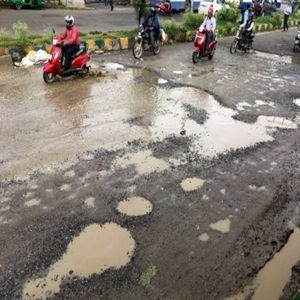pothole: (22, 219, 139, 298), (116, 194, 158, 218), (180, 172, 211, 197)
